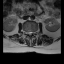CCS_normal: (29, 29, 31, 38)
LFS_normal: (33, 29, 35, 36)
LLS_normal: (31, 29, 33, 36)
RFS_normal: (25, 29, 27, 36)
RLS_normal: (27, 30, 29, 36)
